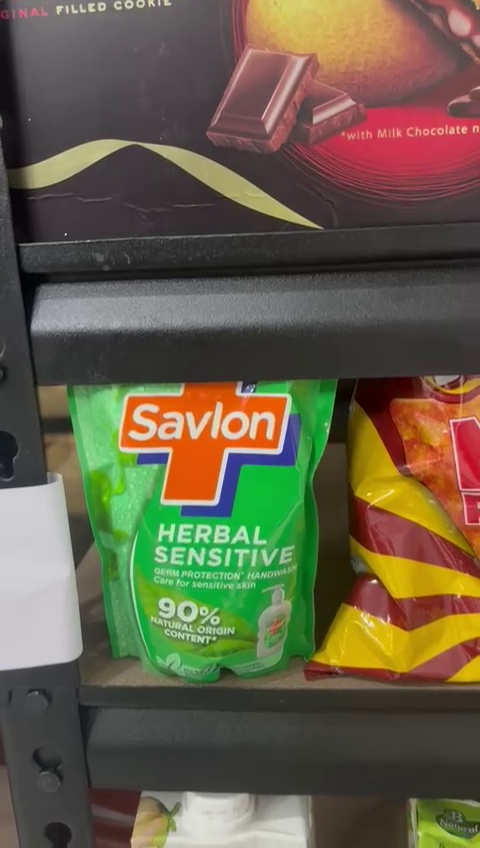Savlon Herbal: (74, 385, 326, 677)
